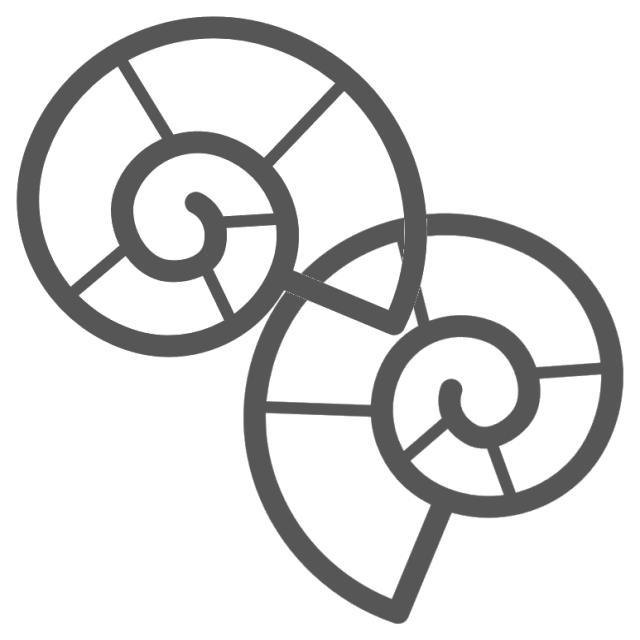fossil: (231, 200, 628, 630), (9, 12, 440, 373)
